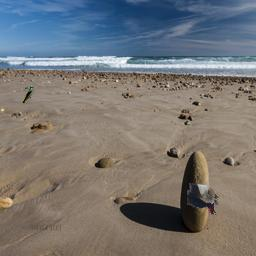Swallow: (22, 85, 34, 104)
Woodpecker: (187, 183, 219, 216)
